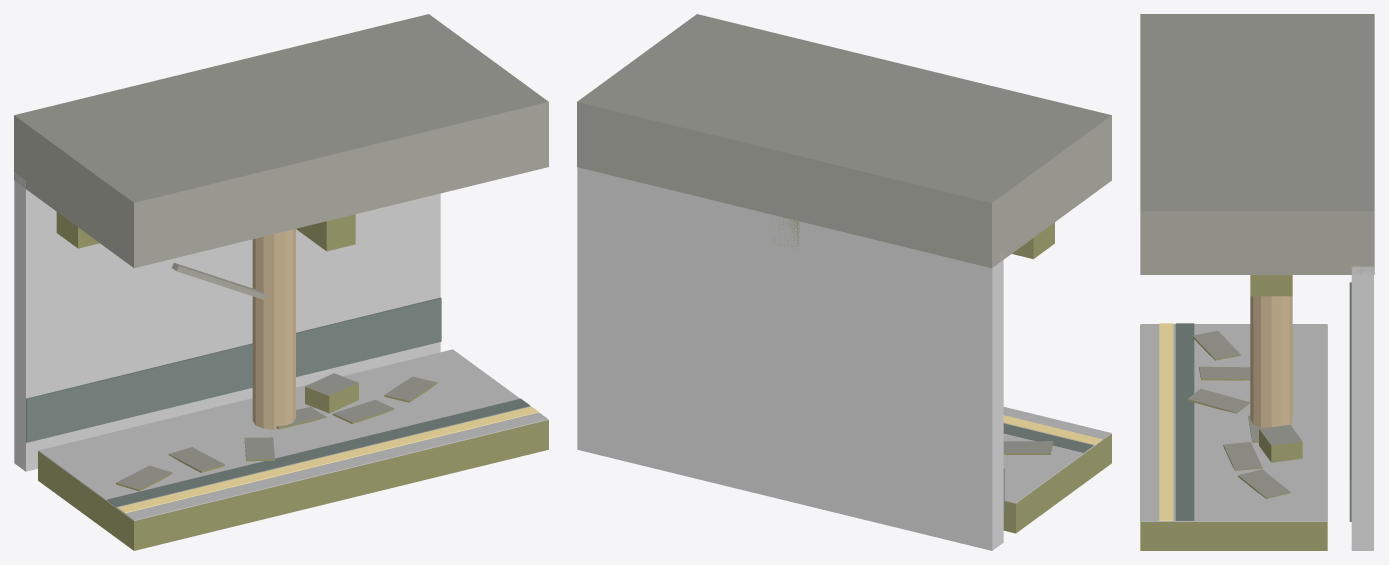
File: SM_AndenLosa_Lateral_v1_TechoCaido_LOD0.fbx
The picture shows the model from 3 angles, left to right: view 1: azimuth 30°, elevation 25°; view 2: azimuth 150°, elevation 25°; view 3: azimuth 270°, elevation 25°; orthographic projection. The views are drawn at different scales.
Visible parts, largest first — view 1: SM_anden_losa_v6_LOD0, Losa; view 2: SM_anden_losa_v6_LOD0, Losa; view 3: Losa, SM_anden_losa_v6_LOD0.
Boxes of the visible parts, x1,y1,x2,y2 form: SM_anden_losa_v6_LOD0: (14,172,548,550); Losa: (14,14,548,299); SM_anden_losa_v6_LOD0: (577,167,1111,550); Losa: (577,14,1111,268); Losa: (1140,14,1374,296); SM_anden_losa_v6_LOD0: (1140,266,1373,550).
Size of the model in its own units: 9.98 by 8 by 5.
